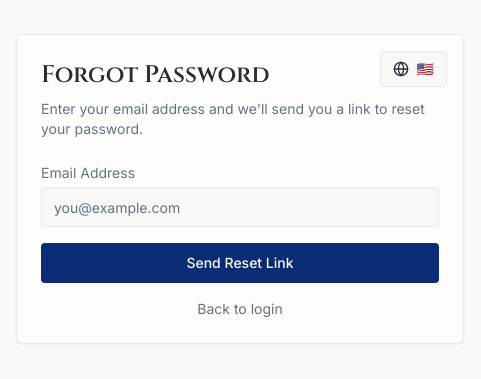
Test: ForgotPassword page › shows error message when email is not confirmed
Type "unconfirmed@example.com" into the field labelled "Email Address". click: (240, 207)
box: [41,187,439,227]
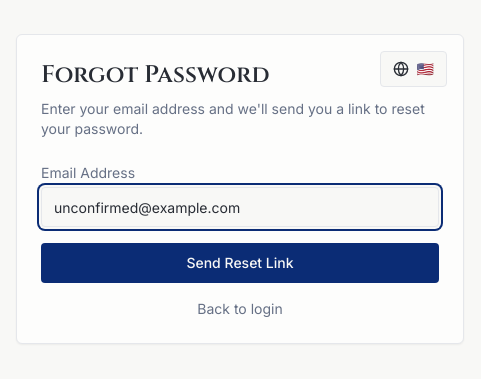
Click the button "Send Reset Link". click: (240, 263)
box: [41,243,439,283]
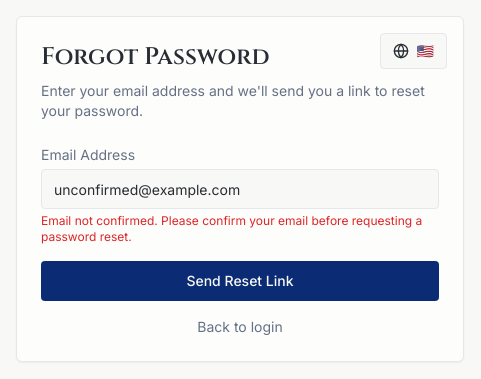
Check: the message shows "not confirmed", box [41,213,422,244]
